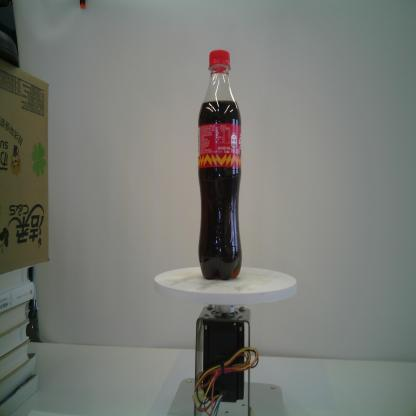Drink: (197, 49, 241, 281)
